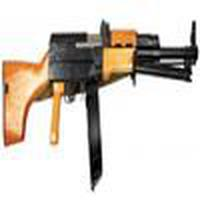gun: (1, 23, 199, 153)
